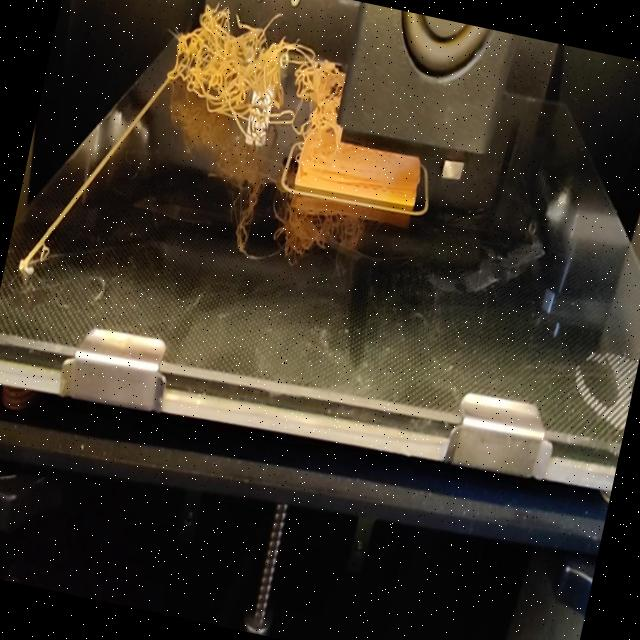spaghetti: (151, 0, 316, 133), (292, 53, 351, 154)
